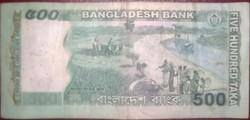500 taka: (2, 5, 246, 118)
